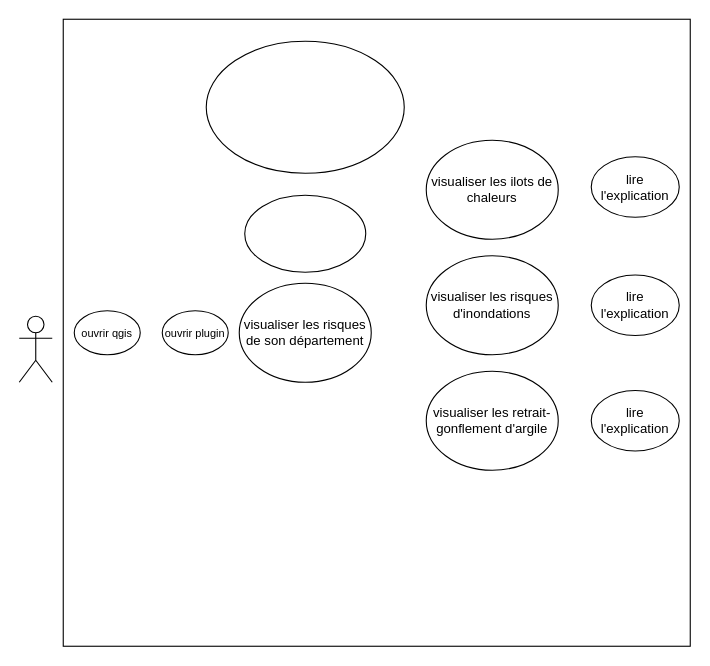
Some shapes in this 710 by 666 pixel diagram are drawn without their labels. Here are the shapes that lost their labels. From the top down, the box of each, then its label:
(205, 40, 404, 173): télécharger carte des ilots de chaleur du département a tel format en tel proj
(244, 194, 366, 272): entrer sources de données exterieurs
(18, 315, 52, 382): Actor
